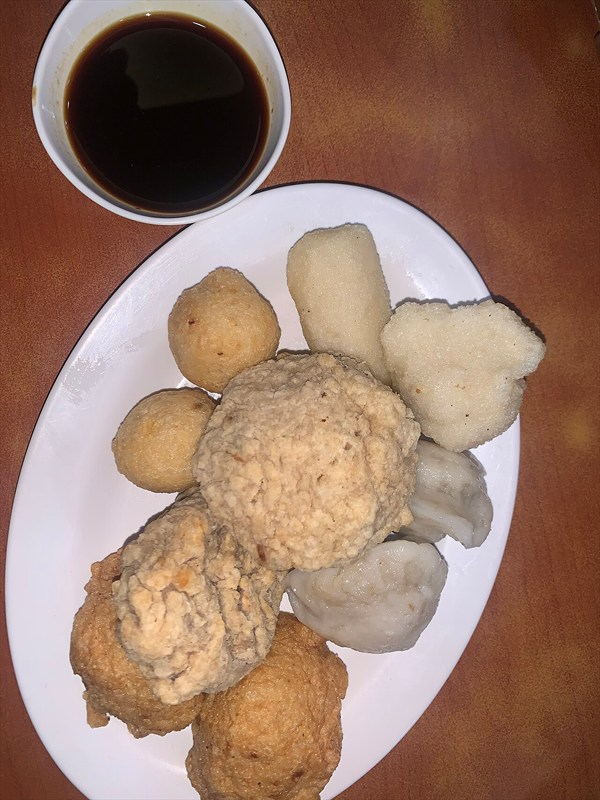Pempek: (43, 139, 516, 748)
